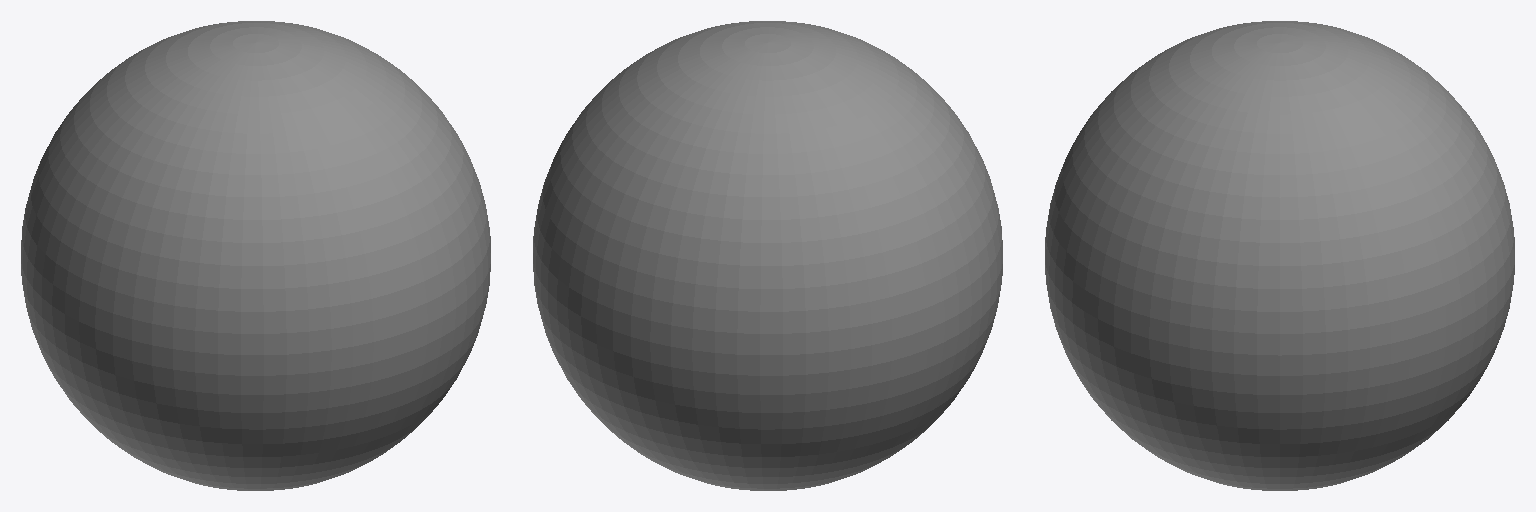
The model's file is venus.obj.
3 views of the same model, side by side, from view 1: azimuth 30°, elevation 25°; view 2: azimuth 150°, elevation 25°; view 3: azimuth 270°, elevation 25° (orthographic).
Parts seen in each view (by area): view 1: Sphere002; view 2: Sphere002; view 3: Sphere002.
Boxes of the visible parts, x1,y1,x2,y2 form: Sphere002: [21, 21, 490, 490]; Sphere002: [533, 21, 1002, 490]; Sphere002: [1045, 21, 1514, 490].
Size of the model in its own units: 45 by 45 by 45.